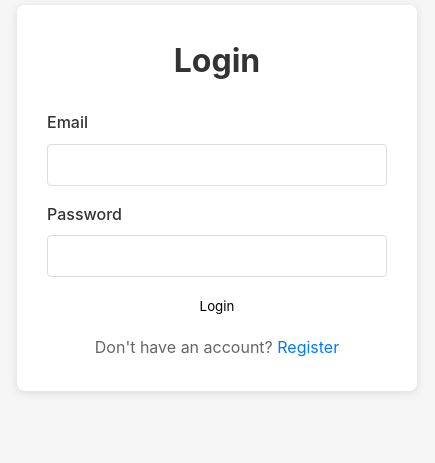
Test: LoginPage › should show validation error when email is empty
Click the button "Login".
click(217, 306)  # box left=47, top=298, right=387, bottom=314
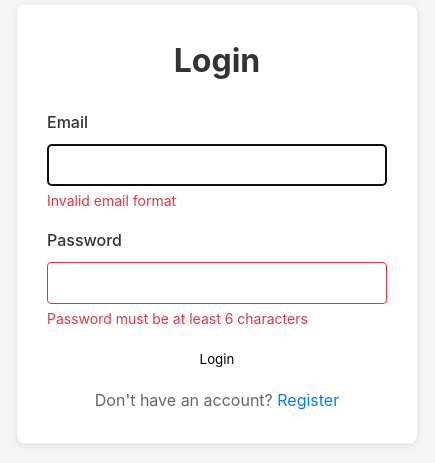
Expected: the text "Invalid email format" is shown, left=47, top=192, right=176, bottom=209
